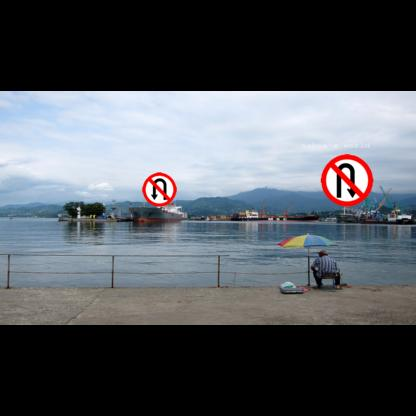R-5a: (142, 172, 177, 206)
